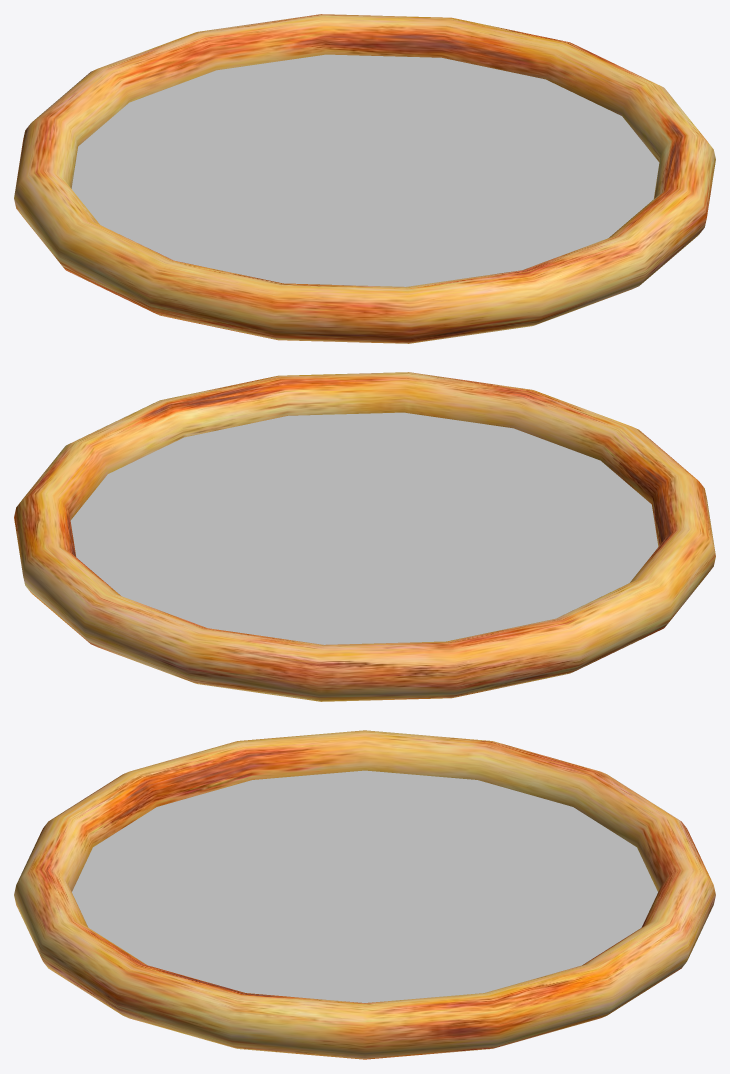
The model's file is pizza2.dae.
3 renders of one model, top to bottom at view 1: azimuth 30°, elevation 25°; view 2: azimuth 150°, elevation 25°; view 3: azimuth 270°, elevation 25°, orthographic.
Parts seen in each view (by area): view 1: 円, ルートパート; view 2: 円, ルートパート; view 3: 円, ルートパート.
Part boxes in pixels (<box>): 円: <box>71,54,659,286</box>; ルートパート: <box>14,14,715,343</box>; 円: <box>70,412,658,644</box>; ルートパート: <box>14,372,715,701</box>; 円: <box>72,770,657,1002</box>; ルートパート: <box>14,730,715,1059</box>.
Bounding box in the file's own units: 248 × 20 × 248.
